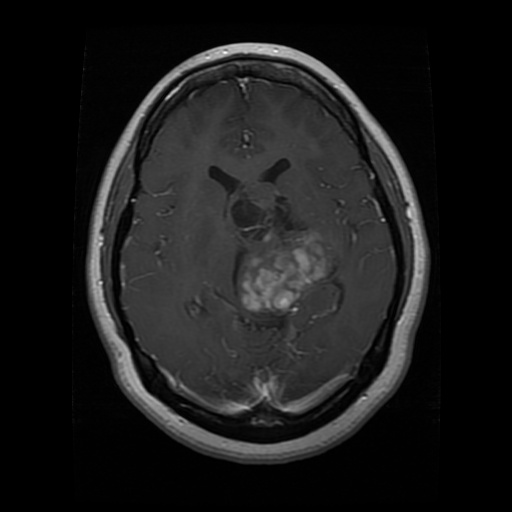glioma: (234, 224, 339, 313)
